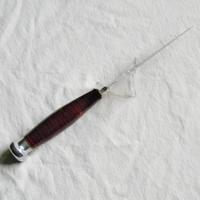knife: (8, 18, 192, 163)
